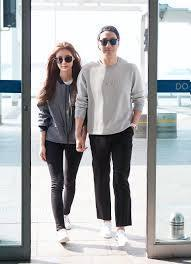pants: (87, 128, 136, 228), (38, 134, 84, 230)
sweater: (73, 56, 148, 135), (43, 70, 88, 152)
